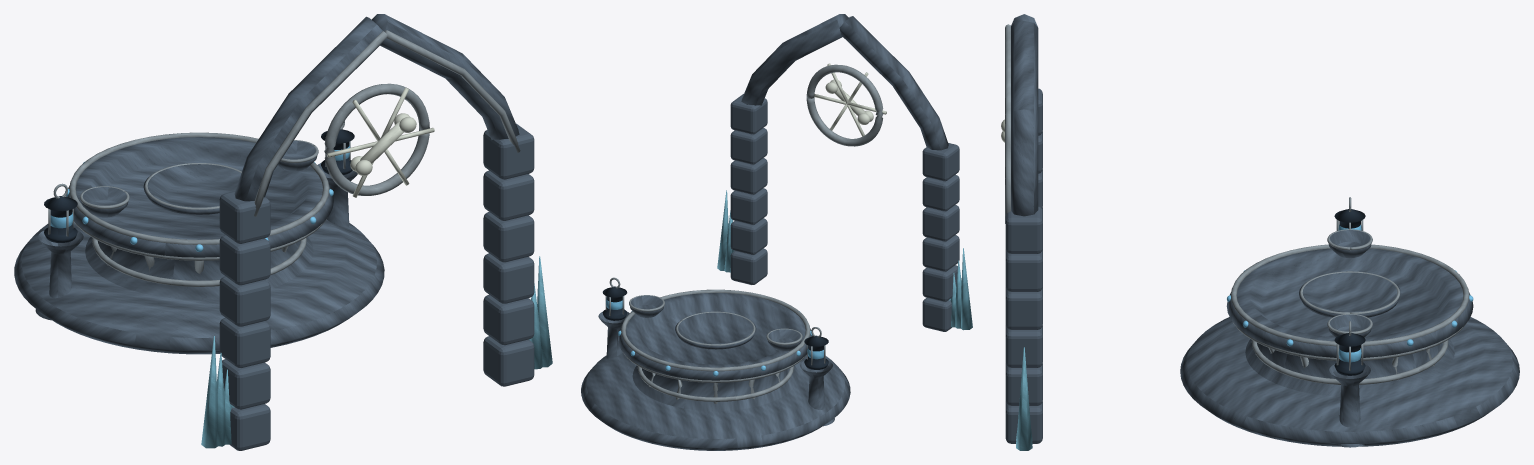
Rendered from Winter_Fusion.fbx.
The picture shows the model from 3 angles, left to right: view 1: azimuth 30°, elevation 25°; view 2: azimuth 150°, elevation 25°; view 3: azimuth 270°, elevation 25°; orthographic projection. The views are drawn at different scales.
Visible parts, largest first — view 1: Winter_Fusion_Stone, Winter_Fusion_Metal, Winter_Fusion_Accent, Winter_Fusion_Ivory, Winter_Fusion_Iron, Winter_Fusion_Light; view 2: Winter_Fusion_Stone, Winter_Fusion_Metal, Winter_Fusion_Accent, Winter_Fusion_Ivory, Winter_Fusion_Iron, Winter_Fusion_Light; view 3: Winter_Fusion_Stone, Winter_Fusion_Metal, Winter_Fusion_Iron, Winter_Fusion_Accent, Winter_Fusion_Light.
Boxes of the visible parts, x1,y1,x2,y2 form: Winter_Fusion_Stone: (14, 14, 534, 450); Winter_Fusion_Metal: (48, 30, 520, 286); Winter_Fusion_Accent: (201, 256, 552, 448); Winter_Fusion_Ivory: (327, 87, 434, 197); Winter_Fusion_Iron: (44, 129, 354, 242); Winter_Fusion_Light: (50, 145, 349, 251); Winter_Fusion_Stone: (581, 14, 959, 450); Winter_Fusion_Metal: (605, 16, 883, 403); Winter_Fusion_Accent: (717, 190, 972, 330); Winter_Fusion_Ivory: (814, 63, 886, 136); Winter_Fusion_Iron: (602, 286, 828, 369); Winter_Fusion_Light: (606, 298, 823, 376); Winter_Fusion_Stone: (1005, 14, 1519, 447); Winter_Fusion_Metal: (1005, 24, 1469, 384); Winter_Fusion_Iron: (1334, 209, 1365, 375); Winter_Fusion_Accent: (1016, 347, 1032, 450); Winter_Fusion_Light: (1227, 224, 1473, 362).
Bounding box in the file's own units: 7.89 × 8.57 × 11.15.
